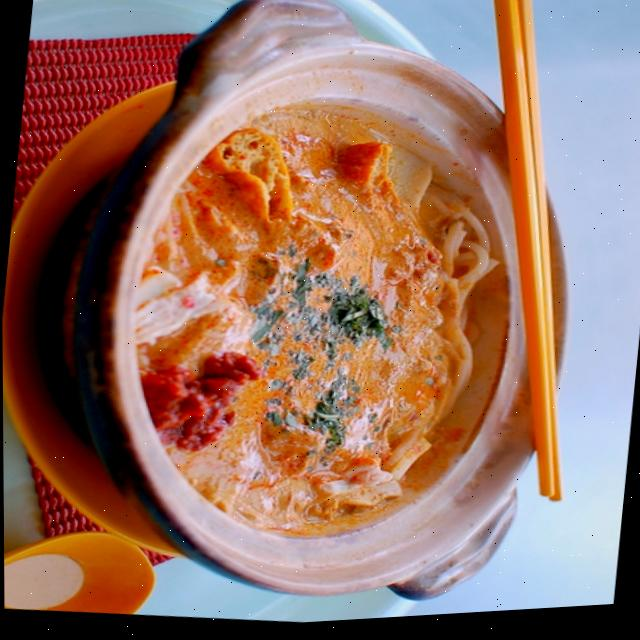面条主食: (49, 16, 622, 595)
